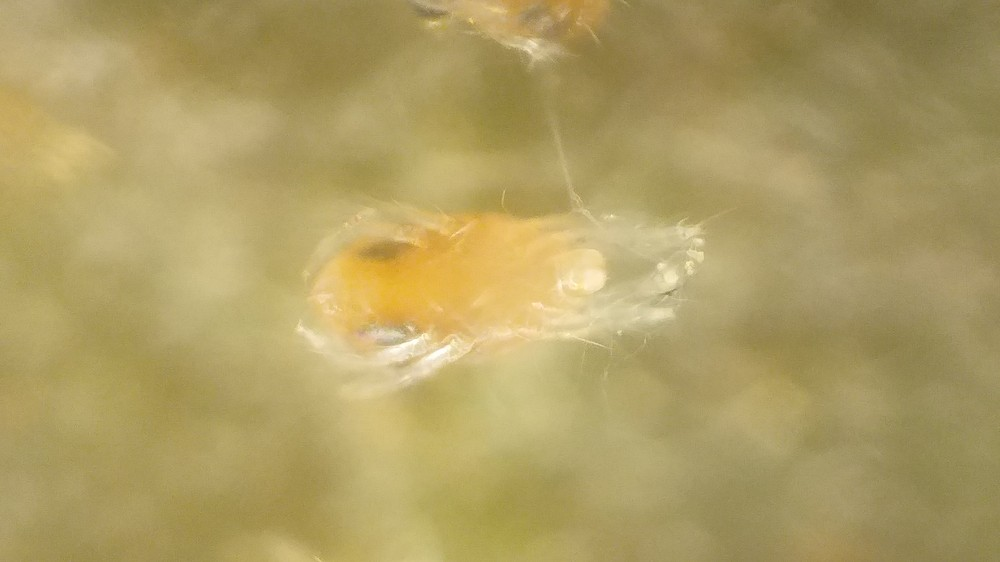Aracnido Rojo: (272, 167, 724, 404)
